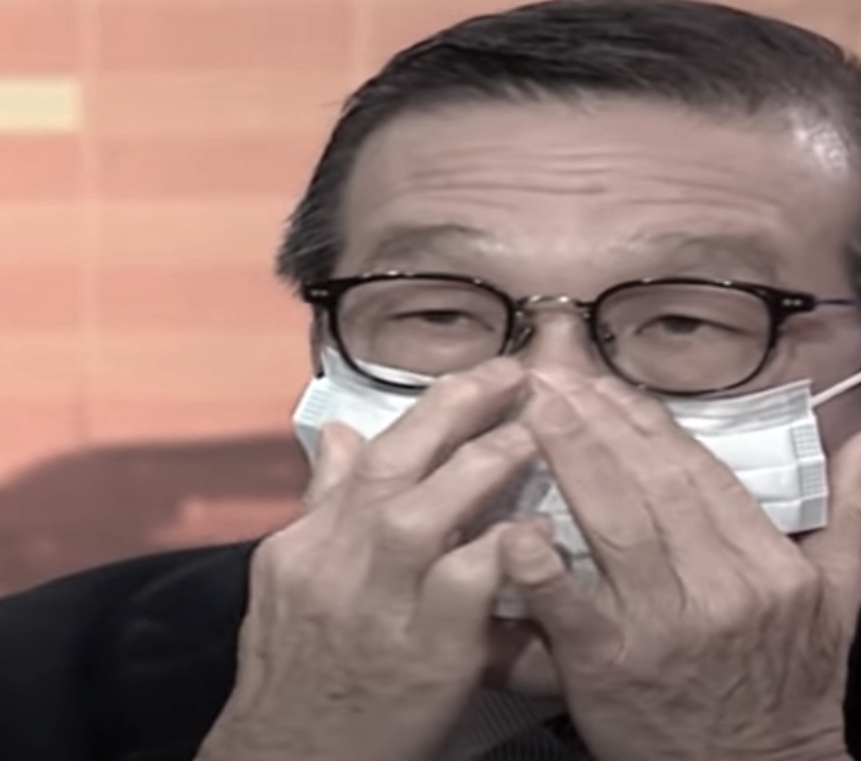mask_weared_incorrect: (292, 26, 860, 704)
